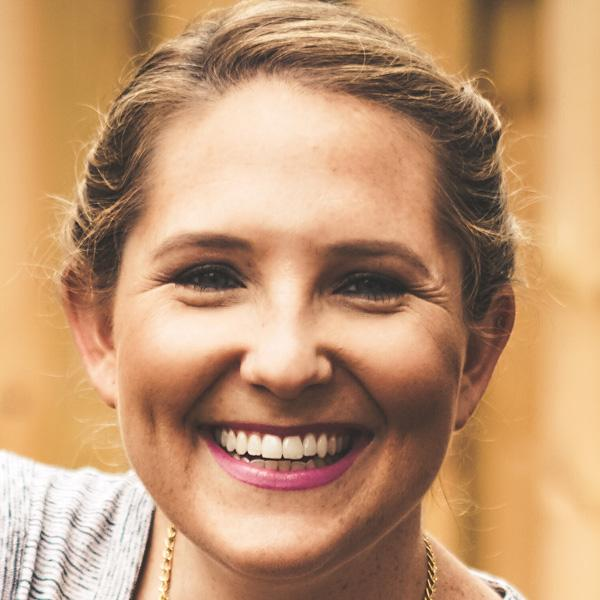Eyes: (159, 250, 256, 309), (325, 260, 421, 316)
